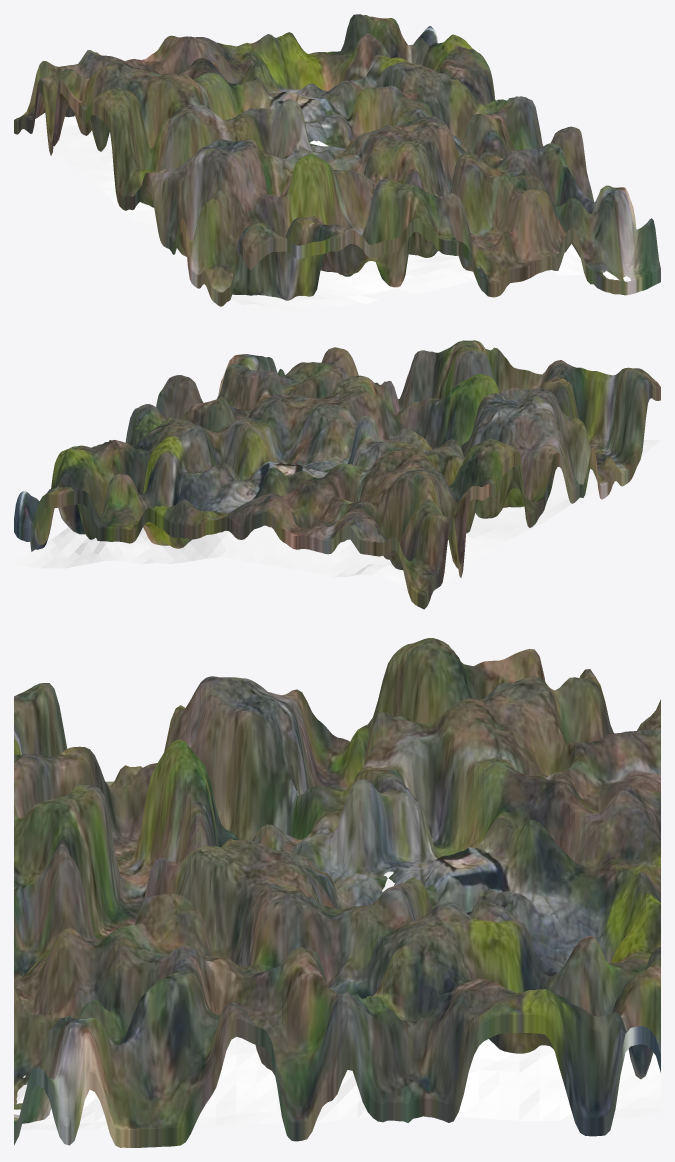
The picture shows the model from 3 angles, top to bottom: view 1: azimuth 30°, elevation 25°; view 2: azimuth 150°, elevation 25°; view 3: azimuth 270°, elevation 25°; orthographic projection. The views are drawn at different scales.
Visible parts, largest first — view 1: surface, ground; view 2: surface, ground; view 3: surface, ground.
Boxes of the visible parts, x1=… form: surface: x1=14, y1=14, x2=660, y2=306; ground: x1=31, y1=113, x2=634, y2=311; surface: x1=14, y1=340, x2=660, y2=609; ground: x1=14, y1=439, x2=660, y2=588; surface: x1=14, y1=638, x2=660, y2=1147; ground: x1=14, y1=871, x2=660, y2=1130.
Size of the model in its own units: 128 by 54.46 by 128.
2 materials, 1 textured.
